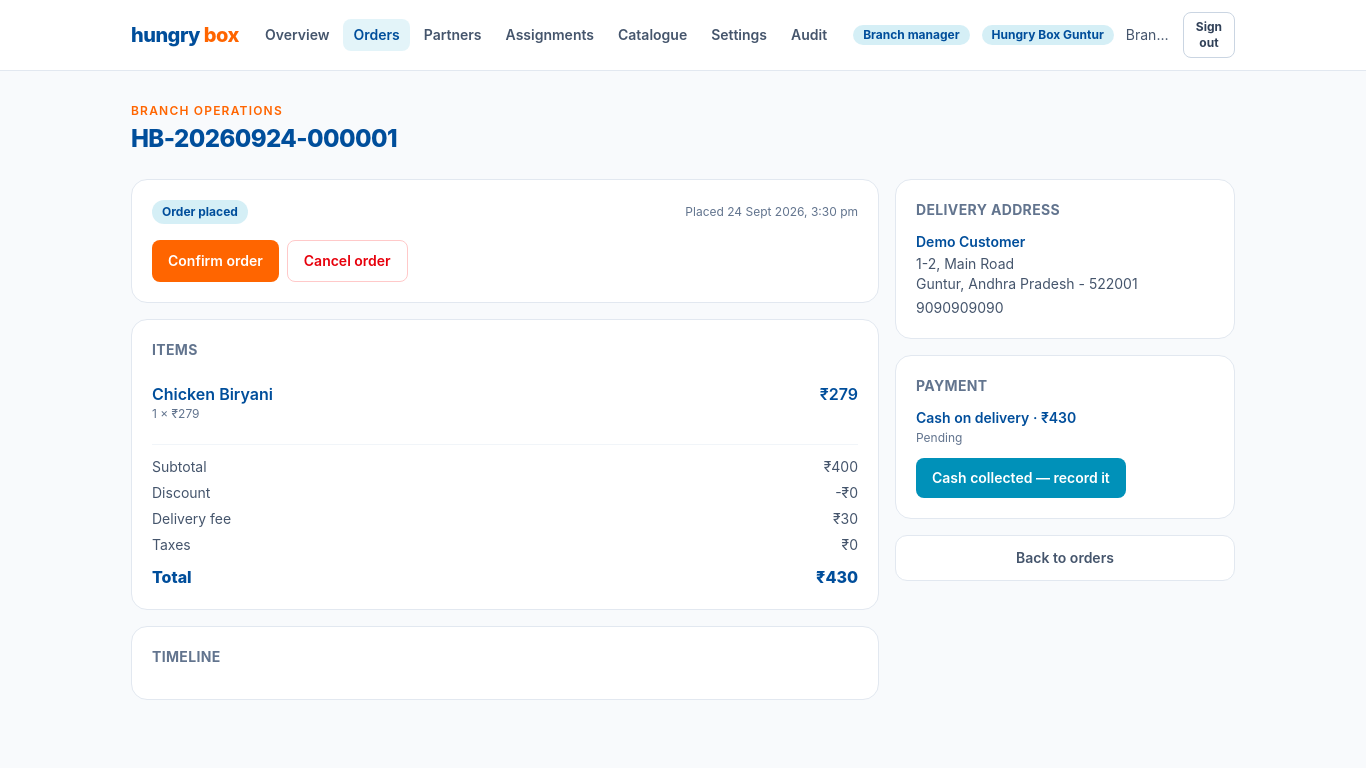
Test: manager orders › keeps the dialog and the typed reason when a collection is rejected
The image size is (1366, 768).
expect the heading "HB-20260924-000001" is shown: met, box [131, 123, 397, 155]
Click the button "Cash collected — record it" at (1021, 478), box [916, 458, 1126, 498]
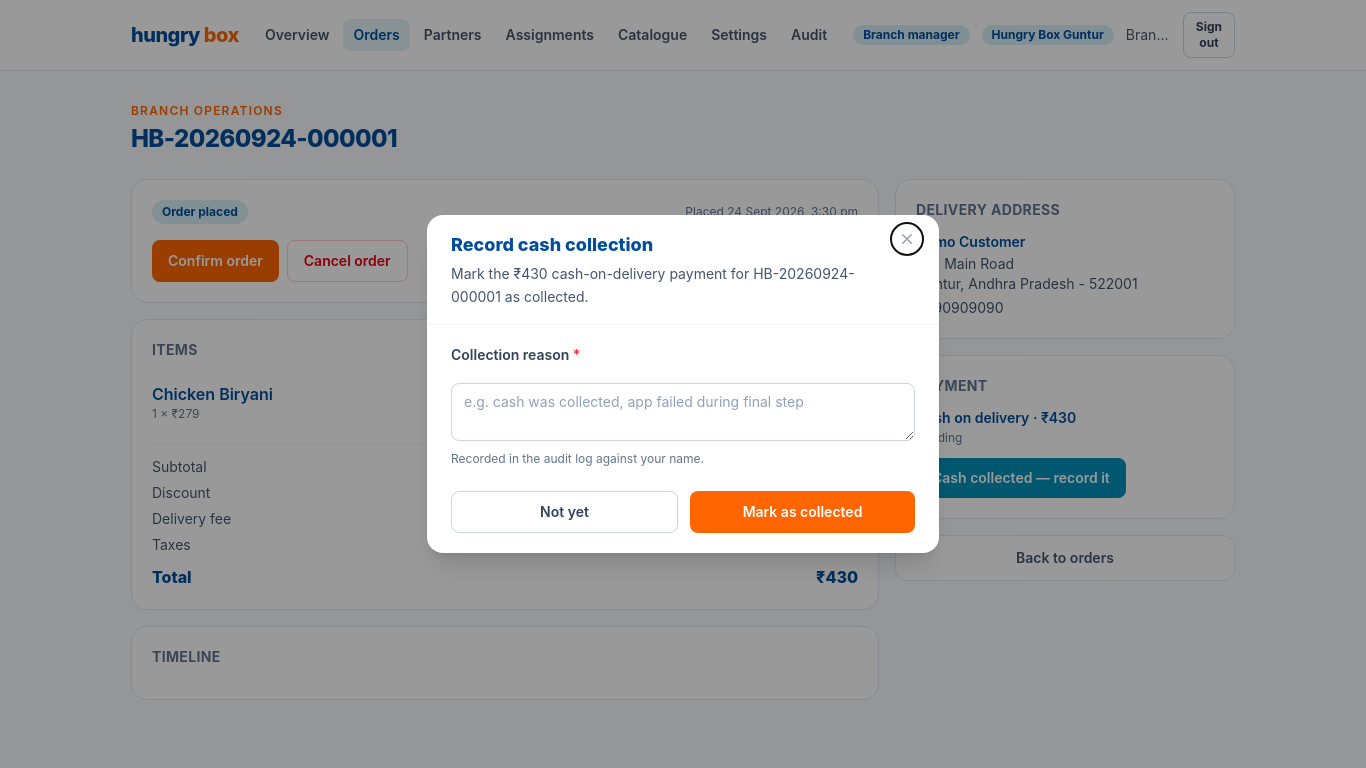
Type "Cash in hand" into the text box labelled "Collection reason *" at (683, 412), box [451, 383, 915, 441]
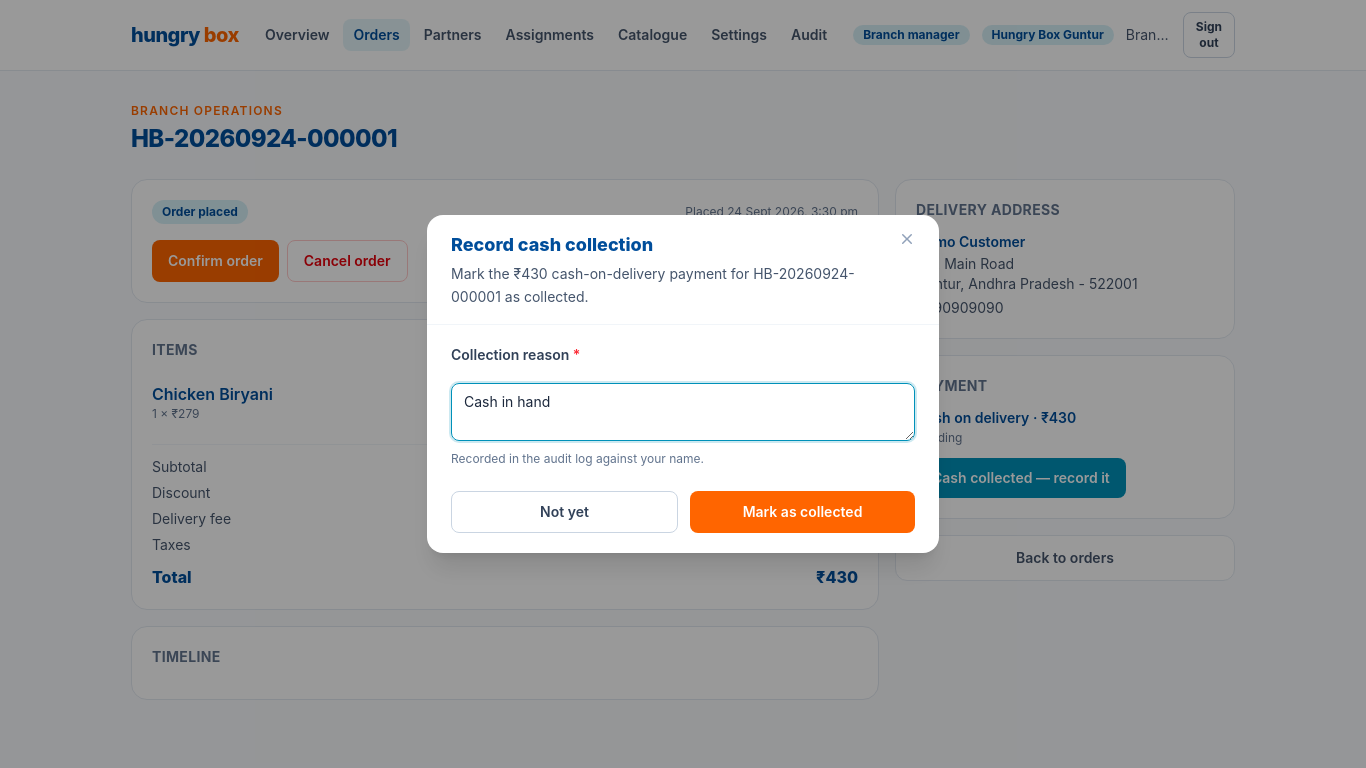
Click the button "Mark as collected" at (802, 512), box [690, 491, 915, 533]
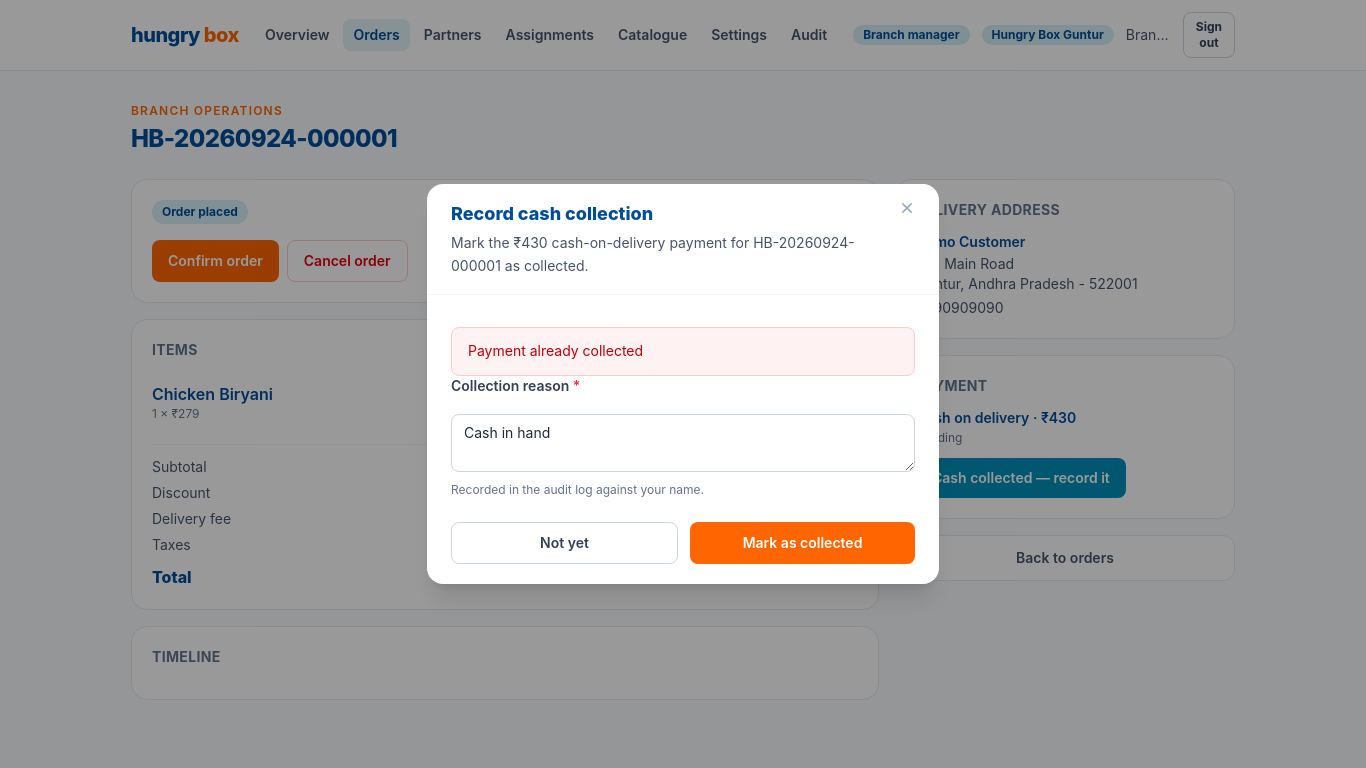
expect the text "Payment already collected" is shown: met, box [451, 327, 915, 376]
